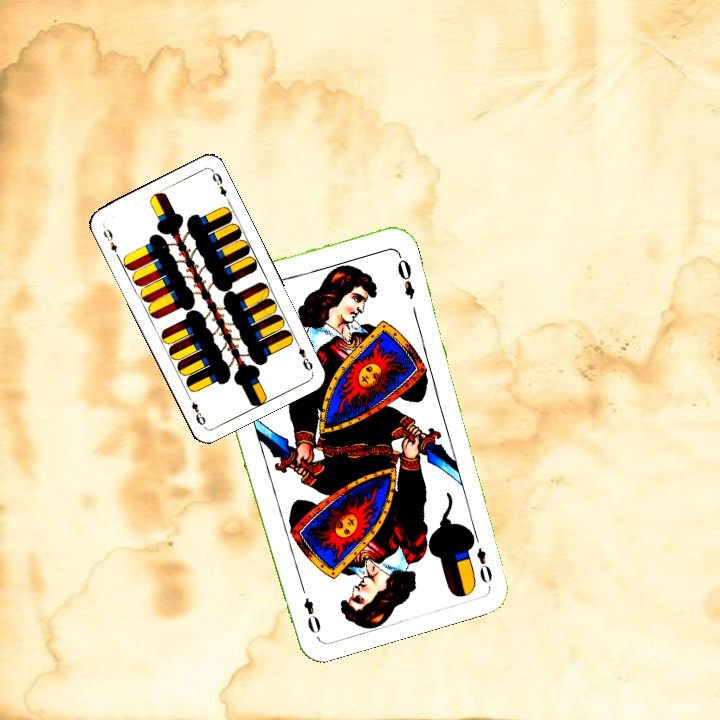E9: (99, 222, 122, 260), (292, 336, 315, 374)
EO: (472, 543, 495, 586)
